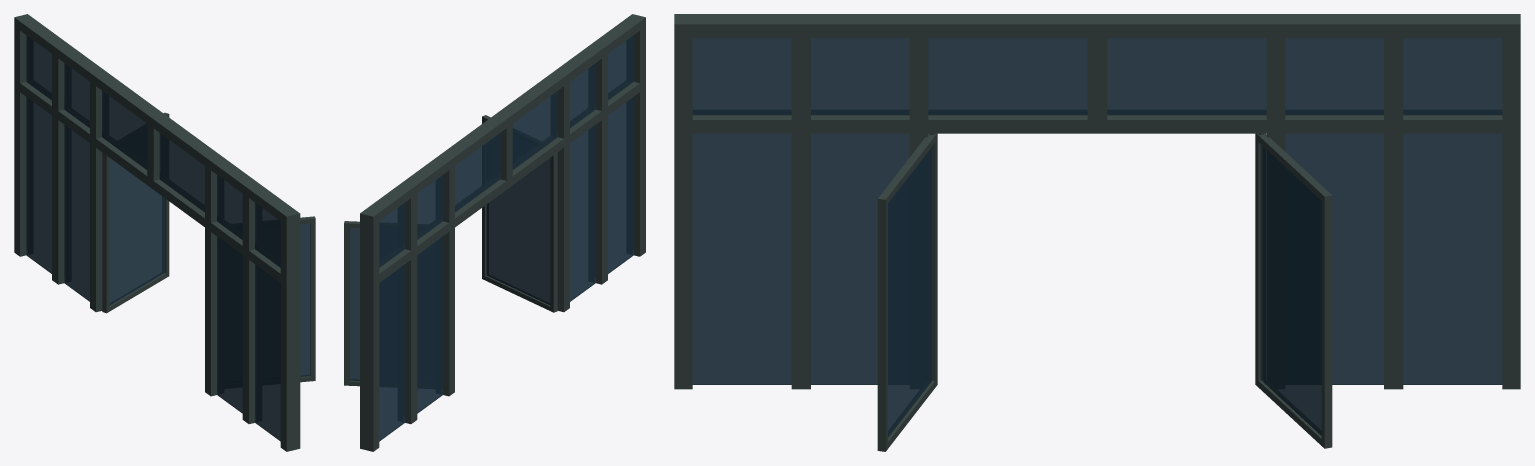
File: big gate way.fbx
3 views of the same model, side by side, from view 1: azimuth 30°, elevation 25°; view 2: azimuth 150°, elevation 25°; view 3: azimuth 270°, elevation 25° (orthographic). The views are drawn at different scales.
Visible parts, largest first — view 1: Cube.052; view 2: Cube.052; view 3: Cube.052.
Boxes of the visible parts, x1,y1,x2,y2 form: Cube.052: (14, 14, 315, 451); Cube.052: (344, 14, 645, 451); Cube.052: (674, 14, 1520, 451).
Bounding box in the file's own units: 214 × 500 × 1050.
